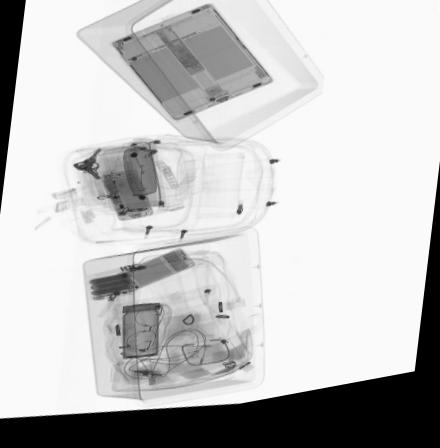Lighter: (105, 174, 121, 200)
